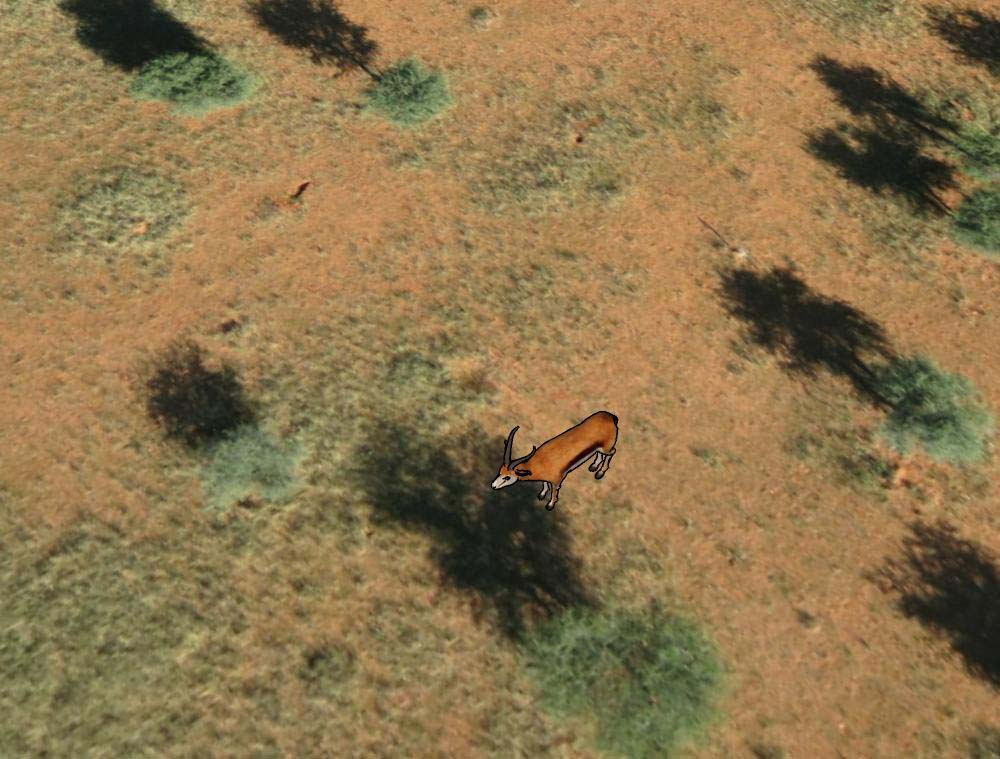springbok: (490, 409, 622, 512)
